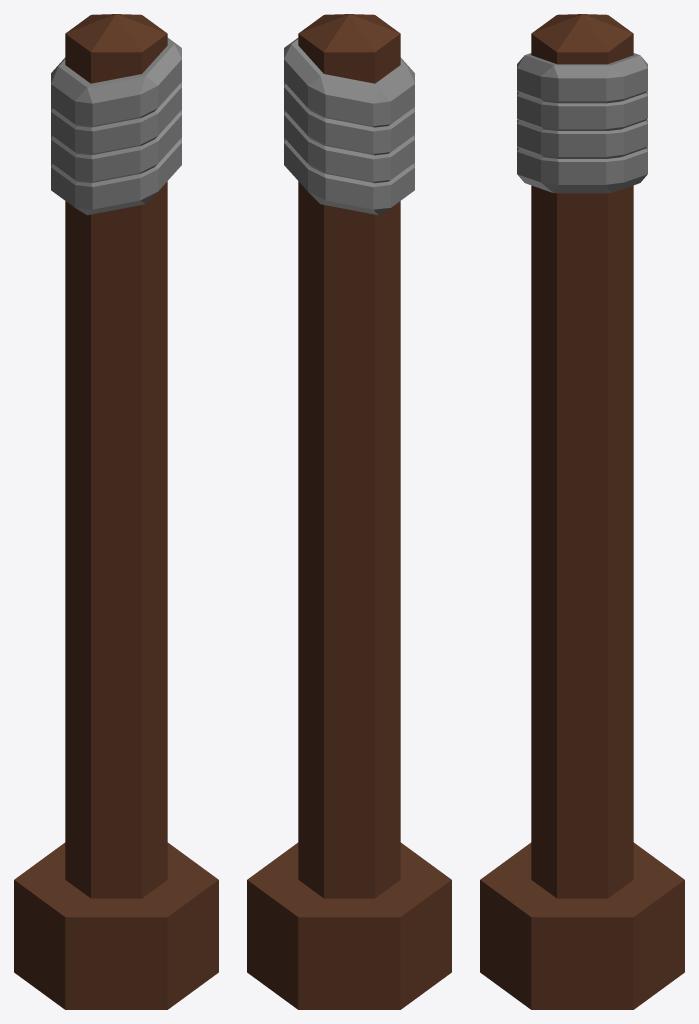
Rendered from CheckpointPost.fbx.
The picture shows the model from 3 angles, left to right: view 1: azimuth 30°, elevation 25°; view 2: azimuth 150°, elevation 25°; view 3: azimuth 270°, elevation 25°; orthographic projection.
Visible parts, largest first — view 1: Cylinder, Cylinder.001; view 2: Cylinder, Cylinder.001; view 3: Cylinder, Cylinder.001.
Boxes of the visible parts, x1,y1,x2,y2 form: Cylinder: (14, 14, 218, 1009); Cylinder.001: (51, 38, 181, 215); Cylinder: (247, 14, 451, 1009); Cylinder.001: (284, 38, 414, 215); Cylinder: (480, 14, 684, 1009); Cylinder.001: (517, 53, 647, 193).
Bounding box in the file's own units: 86.6 × 517 × 100.
